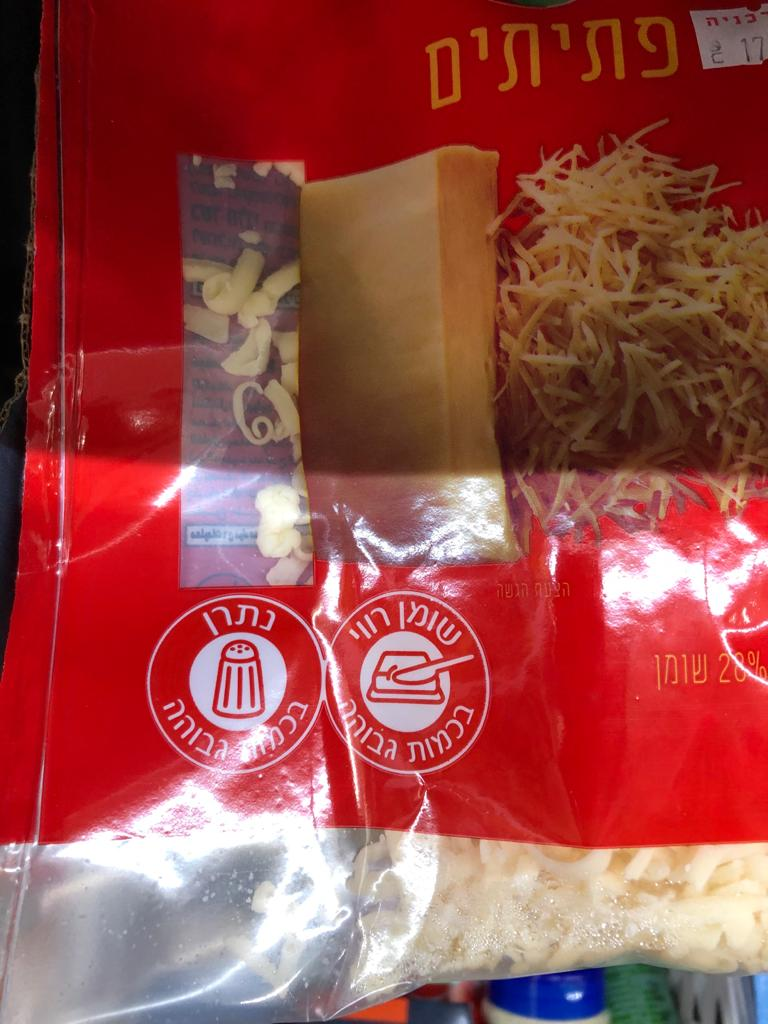fat: (323, 590, 490, 777)
salt: (144, 591, 326, 775)
